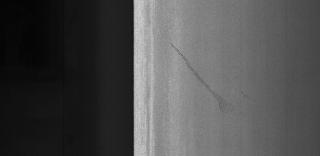water spot: (165, 39, 255, 117)
